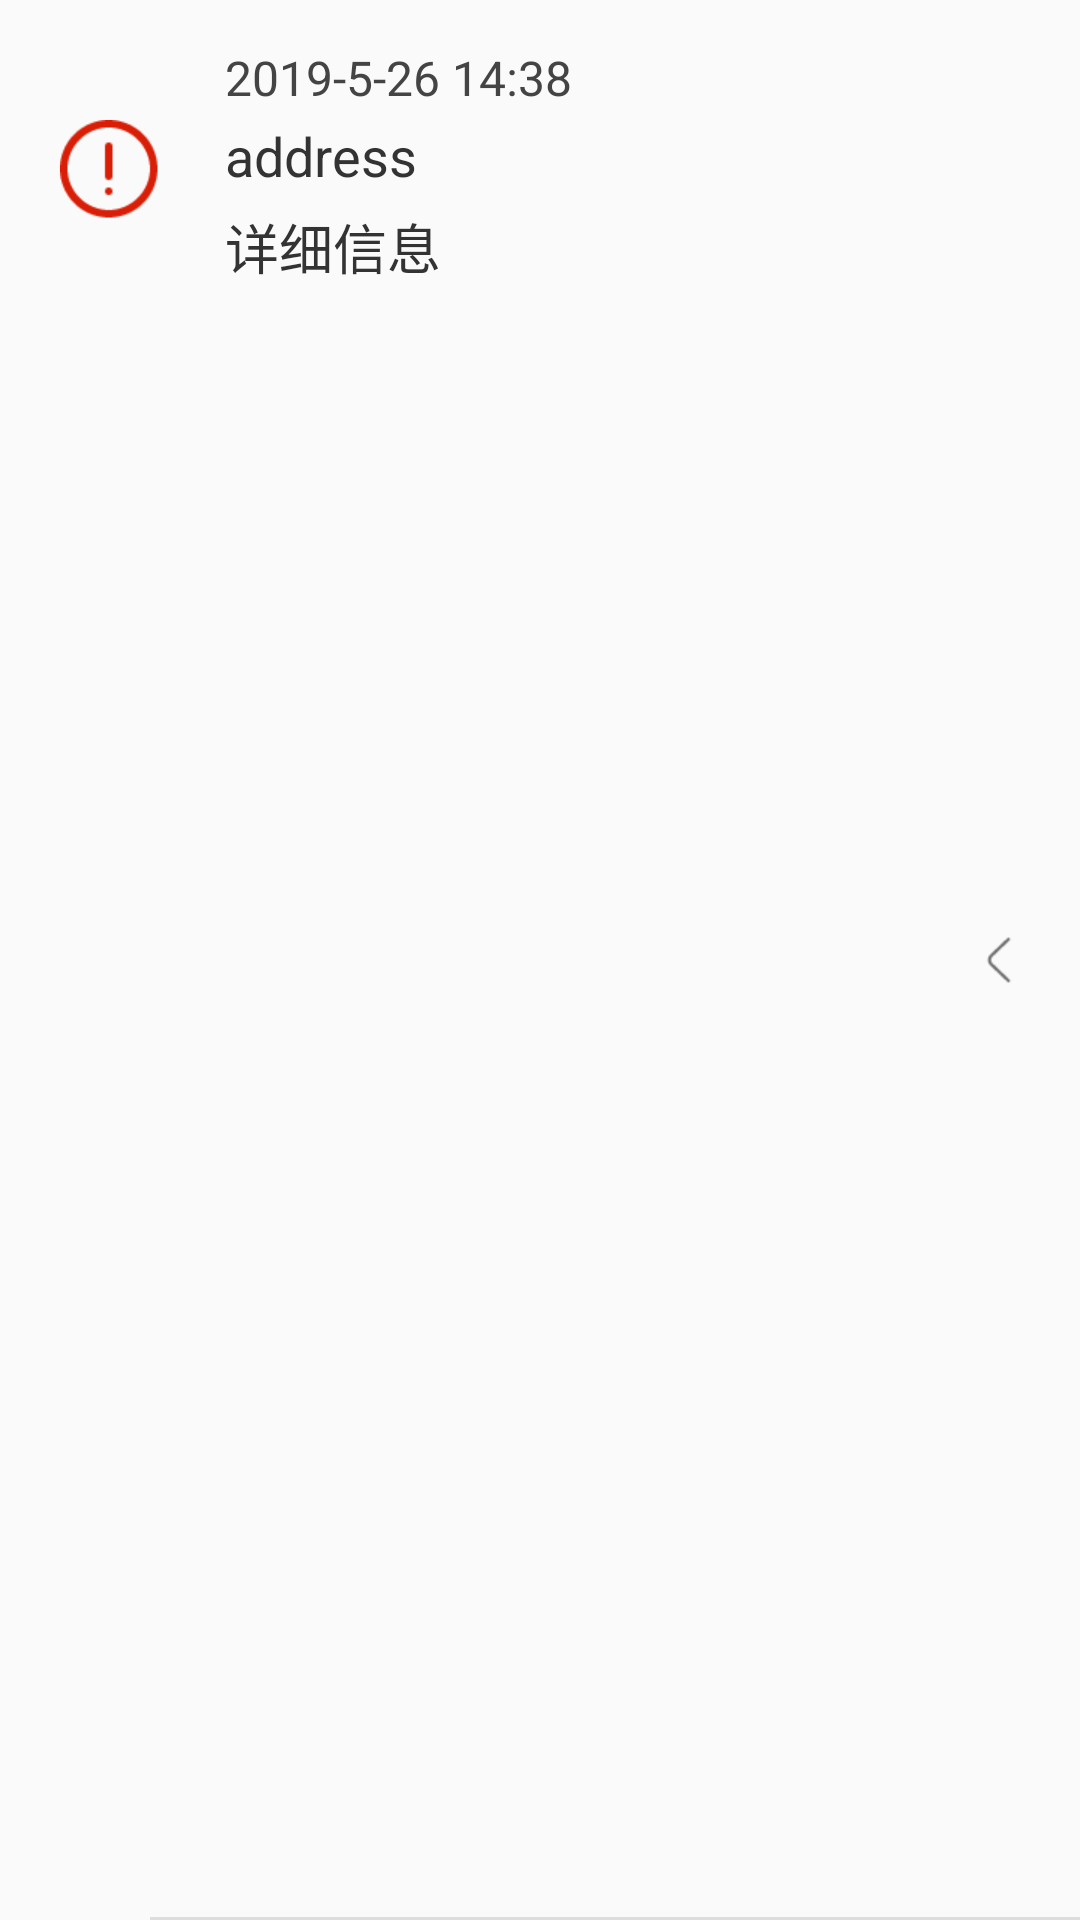

Named icons in this screenshot (1080x1920) and their bounding boxes, (x1, y1, x2, y2):
warning: (60, 120, 158, 218)
